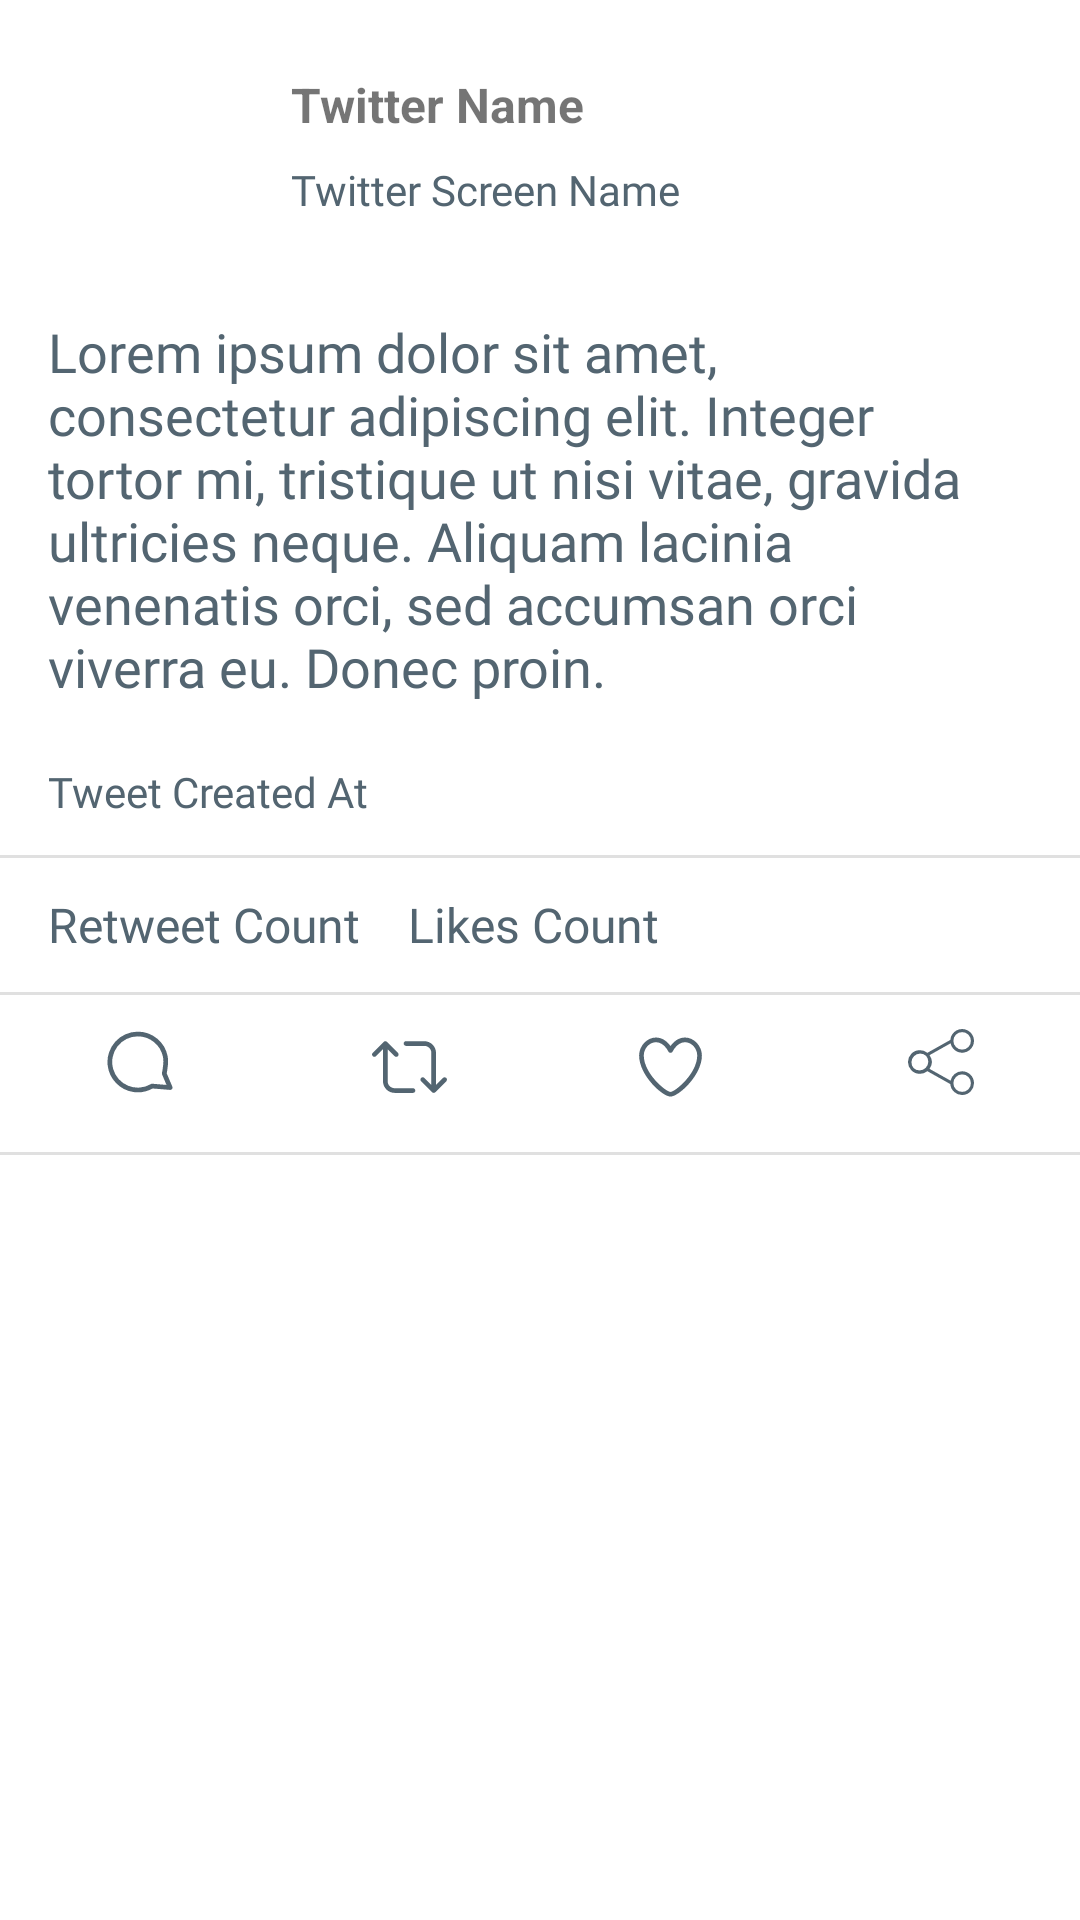

Screen size 1080 × 1920. Icon name, then its box in pixels as bbox=[x1, y1, x2, y2]:
comment: bbox=[107, 1031, 173, 1093]
heart stroke: bbox=[639, 1037, 702, 1097]
retweet stroke: bbox=[372, 1041, 447, 1093]
share: bbox=[908, 1029, 974, 1095]
